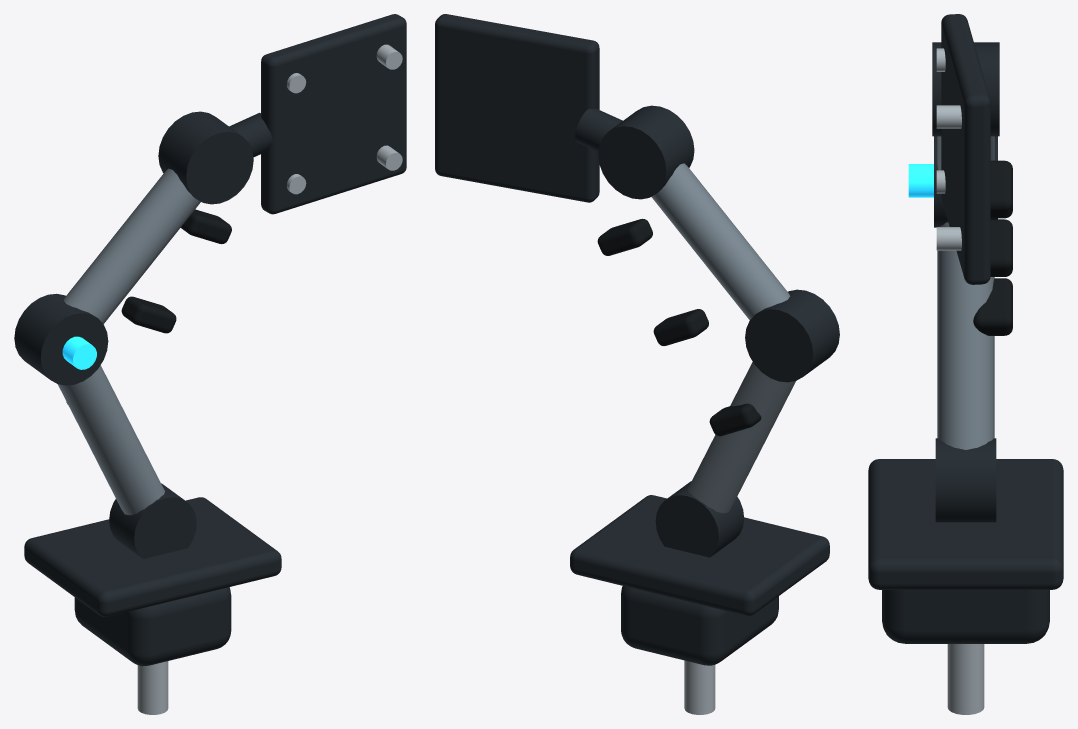
File: monitor-arm.glb
The picture shows the model from 3 angles, left to right: view 1: azimuth 30°, elevation 25°; view 2: azimuth 150°, elevation 25°; view 3: azimuth 270°, elevation 25°; orthographic projection. The views are drawn at different scales.
Parts seen in each view (by area): view 1: VESA mounting plate, Desk clamp base, Premium gas-spring monitor arm, Desk clamp, Upper joint, Lower joint, Base pivot, Cable management clip (×2), Clamp screw, Tension control; view 2: VESA mounting plate, Desk clamp base, Premium gas-spring monitor arm, Desk clamp, Upper joint, Lower joint, Base pivot, Cable management clip (×3), Clamp screw; view 3: Desk clamp base, VESA mounting plate, Premium gas-spring monitor arm, Desk clamp, Base pivot, Cable management clip (×3), Clamp screw, Upper joint, VESA screw (×2), Tension control, Lower joint.
Part boxes in pixels (box(x1,y1,x2,y2)): VESA mounting plate: box(261, 14, 406, 214); Desk clamp base: box(24, 497, 281, 616); Premium gas-spring monitor arm: box(58, 112, 272, 515); Desk clamp: box(74, 587, 231, 666); Upper joint: box(158, 111, 253, 204); Lower joint: box(14, 293, 108, 385); Base pivot: box(109, 483, 196, 558); Cable management clip (×2): box(121, 209, 231, 333); Clamp screw: box(137, 661, 168, 714); Tension control: box(62, 336, 96, 369); VESA mounting plate: box(435, 14, 599, 202); Desk clamp base: box(570, 495, 829, 615); Premium gas-spring monitor arm: box(575, 108, 795, 513); Desk clamp: box(621, 586, 778, 665); Upper joint: box(598, 105, 694, 199); Lower joint: box(745, 289, 839, 382); Base pivot: box(655, 481, 744, 557); Cable management clip (×3): box(597, 218, 761, 436); Clamp screw: box(684, 660, 715, 714); Desk clamp base: box(868, 459, 1063, 589); VESA mounting plate: box(941, 14, 990, 284); Premium gas-spring monitor arm: box(937, 136, 994, 449); Desk clamp: box(882, 590, 1049, 643); Base pivot: box(935, 438, 996, 522); Cable management clip (×3): box(973, 160, 1012, 335); Clamp screw: box(947, 644, 984, 714); Upper joint: box(932, 42, 999, 136); VESA screw (×2): box(936, 105, 961, 250); Tension control: box(908, 164, 933, 197); Lower joint: box(934, 136, 997, 227).
Size of the model in its own units: 1.58 by 2.49 by 0.58.
